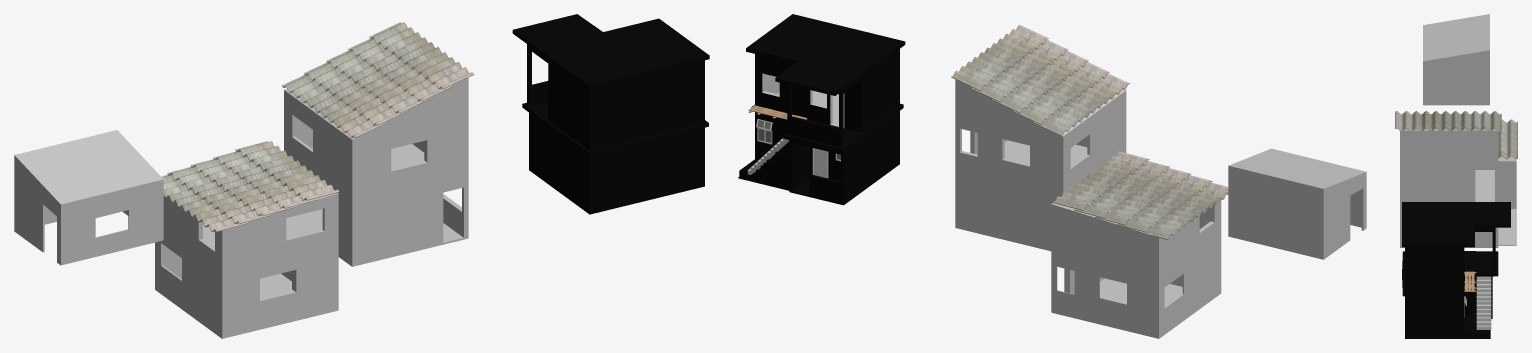
The model's file is quad.FBX.
3 views of the same model, side by side, from view 1: azimuth 30°, elevation 25°; view 2: azimuth 150°, elevation 25°; view 3: azimuth 270°, elevation 25° (orthographic). The views are drawn at different scales.
Visible parts, largest first — view 1: Box002, Box013, Box001, Box007, Box012, Box004, Box003, Box005, Box006, Box009, Box010, Box011 (+1 smaller); view 2: Box002, Box013, Box001, Box007, Box012, Box004, Box003, Box005, Box006, Box009, Box008, Box010 (+1 smaller); view 3: Box013, Box002, Box001, Box007, Box005, Box004, Box003, Box006, Box012, Box010, Box009, Box011 (+1 smaller).
Boxes of the visible parts, x1,y1,x2,y2 form: Box002: [155, 77, 468, 338]; Box013: [512, 14, 709, 214]; Box001: [14, 130, 163, 265]; Box007: [369, 22, 473, 89]; Box012: [235, 141, 339, 200]; Box004: [304, 62, 408, 125]; Box003: [281, 75, 386, 137]; Box005: [326, 50, 430, 113]; Box006: [348, 38, 452, 101]; Box009: [167, 166, 270, 224]; Box010: [190, 159, 294, 216]; Box011: [213, 151, 316, 208]; Box002: [955, 79, 1221, 338]; Box013: [738, 14, 905, 205]; Box001: [1228, 148, 1366, 259]; Box007: [951, 24, 1048, 90]; Box012: [1053, 151, 1149, 210]; Box004: [1012, 62, 1109, 124]; Box003: [1032, 73, 1129, 136]; Box005: [991, 50, 1088, 113]; Box006: [970, 40, 1067, 102]; Box009: [1116, 175, 1212, 232]; Box008: [1137, 182, 1228, 240]; Box010: [1095, 168, 1191, 225]; Box013: [1402, 202, 1510, 338]; Box002: [1400, 128, 1516, 247]; Box001: [1423, 14, 1489, 105]; Box007: [1395, 122, 1501, 131]; Box005: [1395, 116, 1501, 122]; Box004: [1395, 113, 1501, 119]; Box003: [1395, 111, 1501, 116]; Box006: [1395, 119, 1501, 125]; Box012: [1498, 144, 1517, 159]; Box010: [1498, 132, 1517, 141]; Box009: [1498, 125, 1517, 135]; Box011: [1498, 139, 1517, 147].
Bounding box in the file's own units: 818 × 190 × 273.
